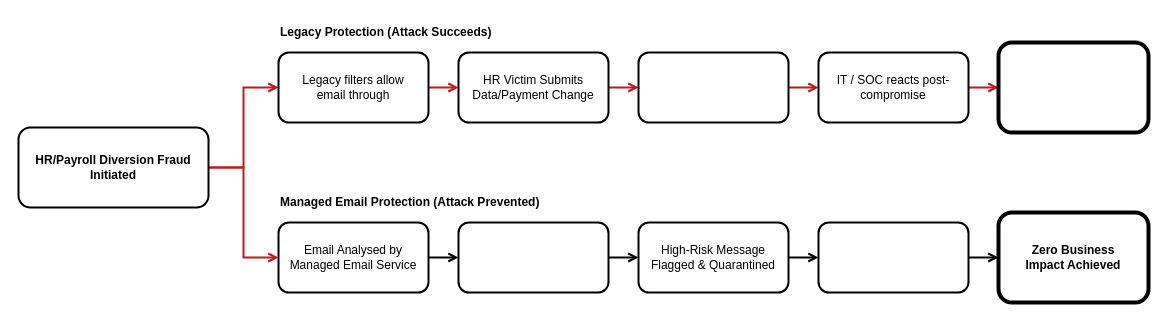
Some shapes in this 1167 by 321 pixel diagram are drawn without their labels. Here are the shapes that lost their labels. From the top down, the centre of each, then its label:
At (713,87): "Financial Loss or Data Theft Occurs".
At (1073,87): "Operational and Financial Impact Realized".
At (533,257): "AI Flags Look-Alike/New Domain + Coercion Text".
At (893,257): "Automated Quarantining & Zero-User Mitigation".
